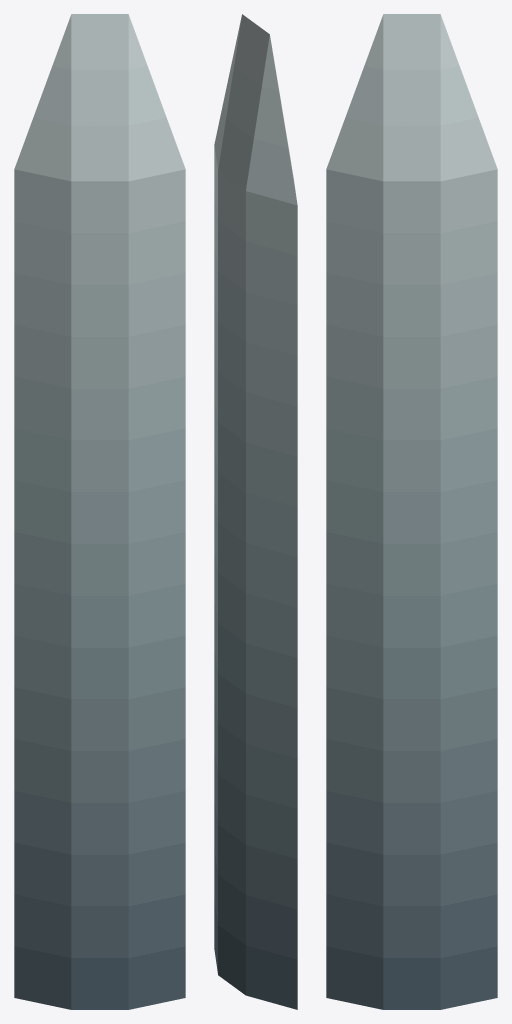
File: warden_blade_blade.obj
3 views of the same model, side by side, from view 1: azimuth 90°, elevation 25°; view 2: azimuth 210°, elevation 25°; view 3: azimuth 270°, elevation 25° (orthographic). The views are drawn at different scales.
Parts seen in each view (by area): view 1: Blade_Cube.006; view 2: Blade_Cube.006; view 3: Blade_Cube.006.
Boxes of the visible parts, x1,y1,x2,y2 form: Blade_Cube.006: [14, 14, 185, 1009]; Blade_Cube.006: [214, 14, 297, 1009]; Blade_Cube.006: [326, 14, 497, 1009].
Bounding box in the file's own units: 0.0625 × 1.19 × 0.1875.
